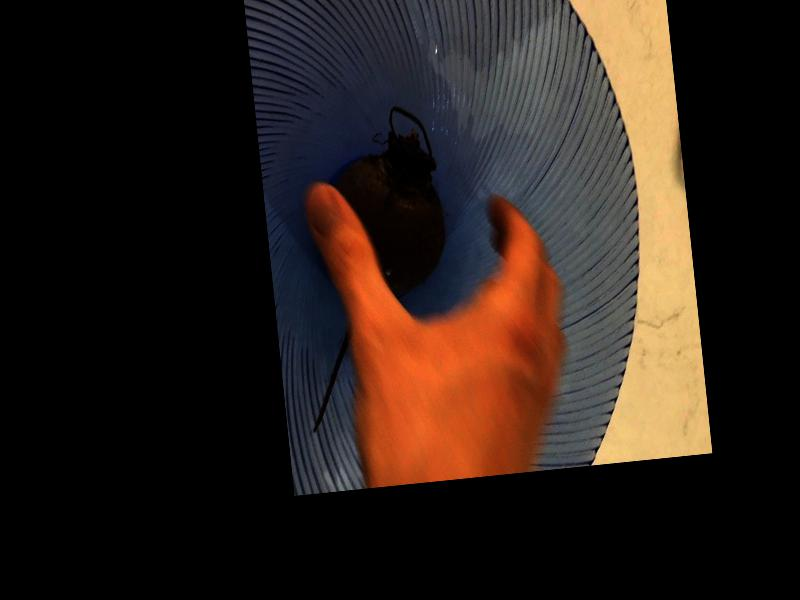Beet: (282, 103, 464, 431)
